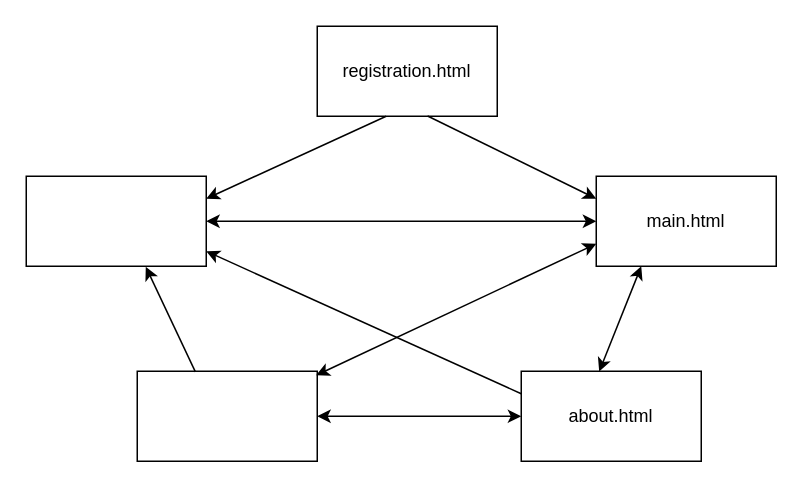
Some shapes in this 803 by 488 pixel diagram are drawn without their labels. Here are the shapes that lost their labels. From the top down, the centre of each, then its label:
At pixel 115 220: "sign up.html".
At pixel 226 415: "profile.html".
